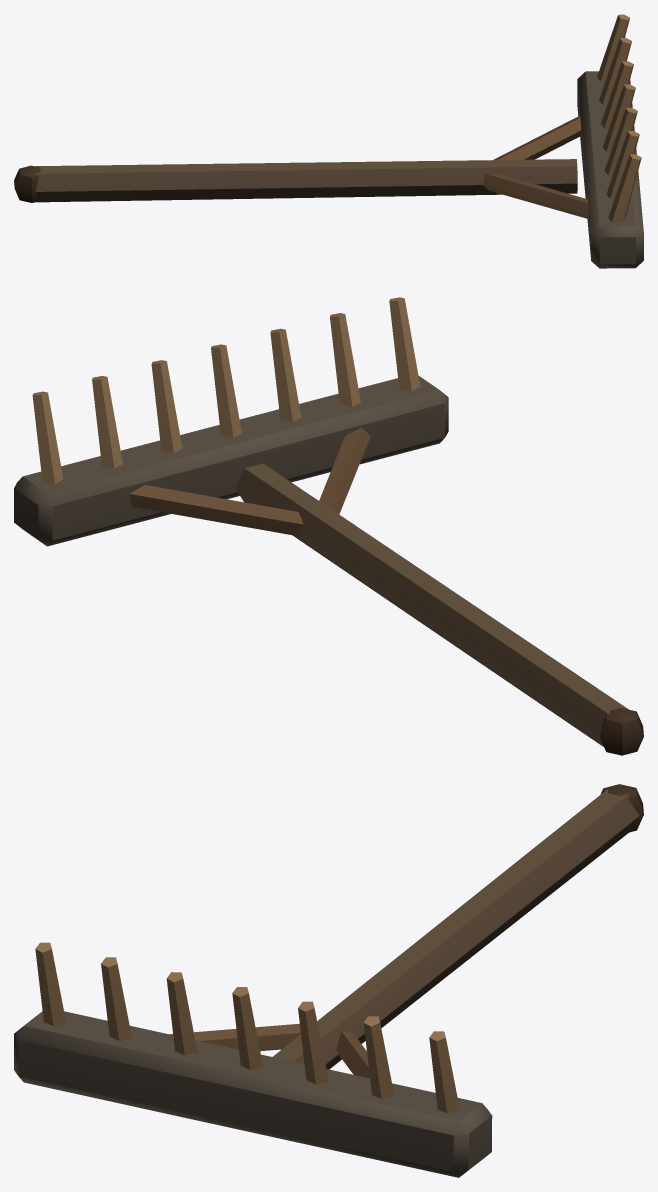
The model's file is ph_item_rake.glb.
3 renders of one model, top to bottom at view 1: azimuth 30°, elevation 25°; view 2: azimuth 150°, elevation 25°; view 3: azimuth 270°, elevation 25°, orthographic. The views are drawn at different scales.
Parts seen in each view (by area): view 1: ph_item_rake; view 2: ph_item_rake; view 3: ph_item_rake.
Boxes of the visible parts, <box> form: ph_item_rake: <box>14,14,643,268</box>; ph_item_rake: <box>14,297,643,755</box>; ph_item_rake: <box>14,784,643,1177</box>.
Size of the model in its own units: 0.3869 by 0.0721 by 0.2824.
